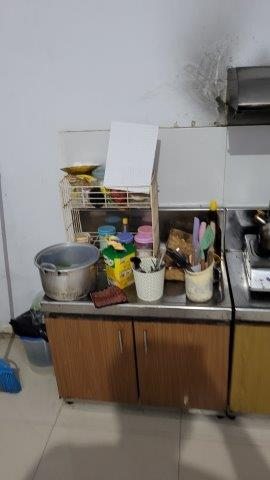kertas: (102, 121, 157, 197)
